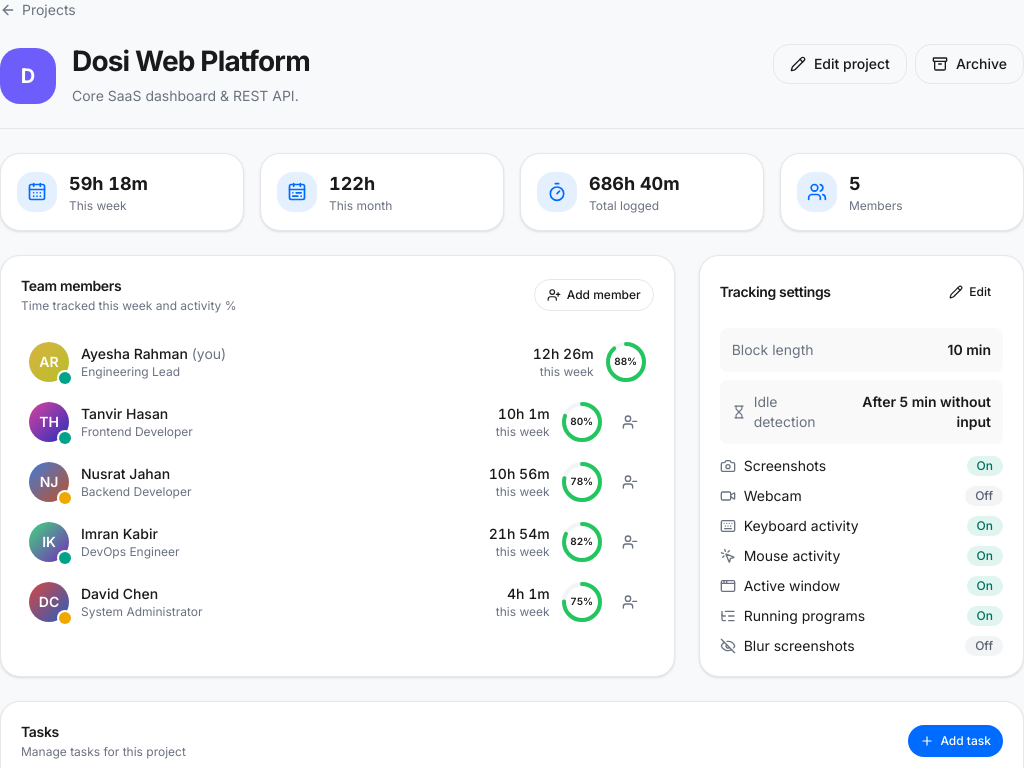
Test case: project page — demo mode › edits the project's tracking settings and shows them at once
The width and height of the screenshot is (1024, 768).
Click the button "Edit project": (840, 64) [773,44,907,84]
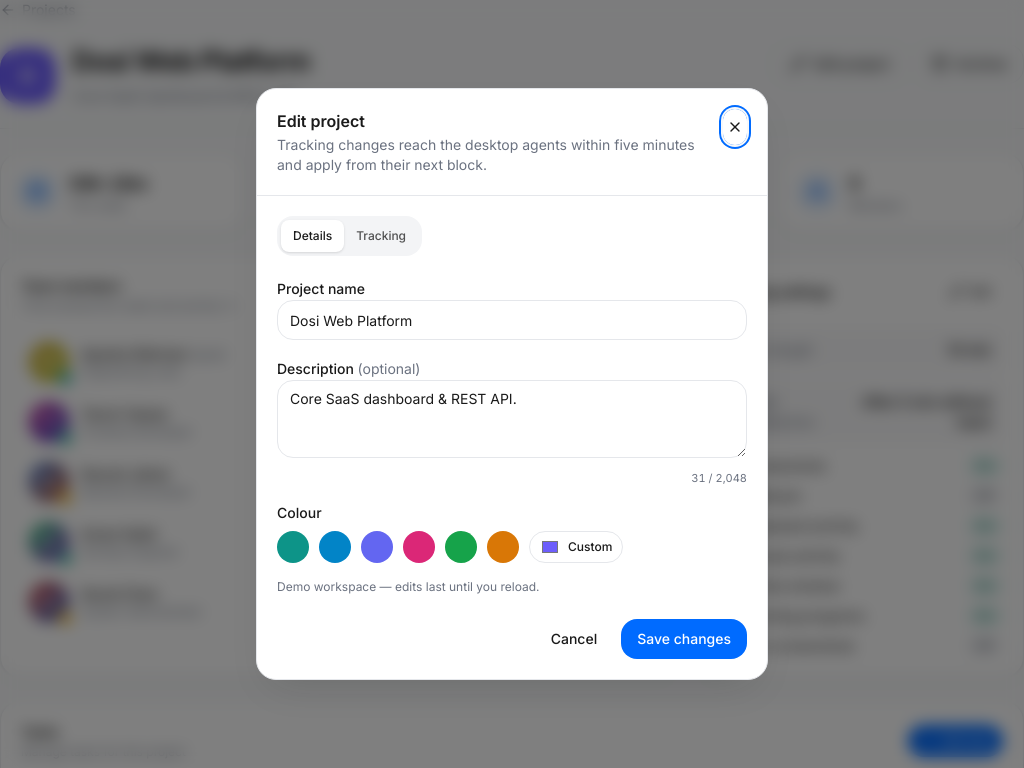
Now the field labelled "Project name" holds "Dosi Web Platform", box [277,300,747,340]
Click the tab "Tracking": (381, 236) [344,220,418,252]
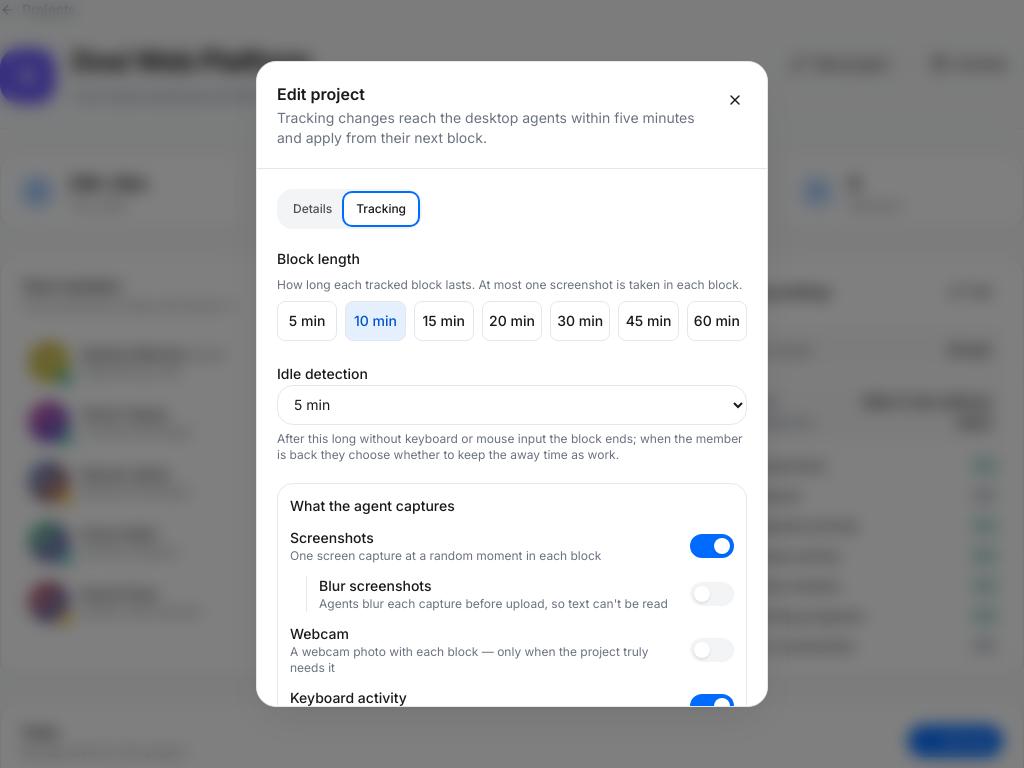
Click the radio button labelled "30 min": (580, 321) [550,301,610,341]
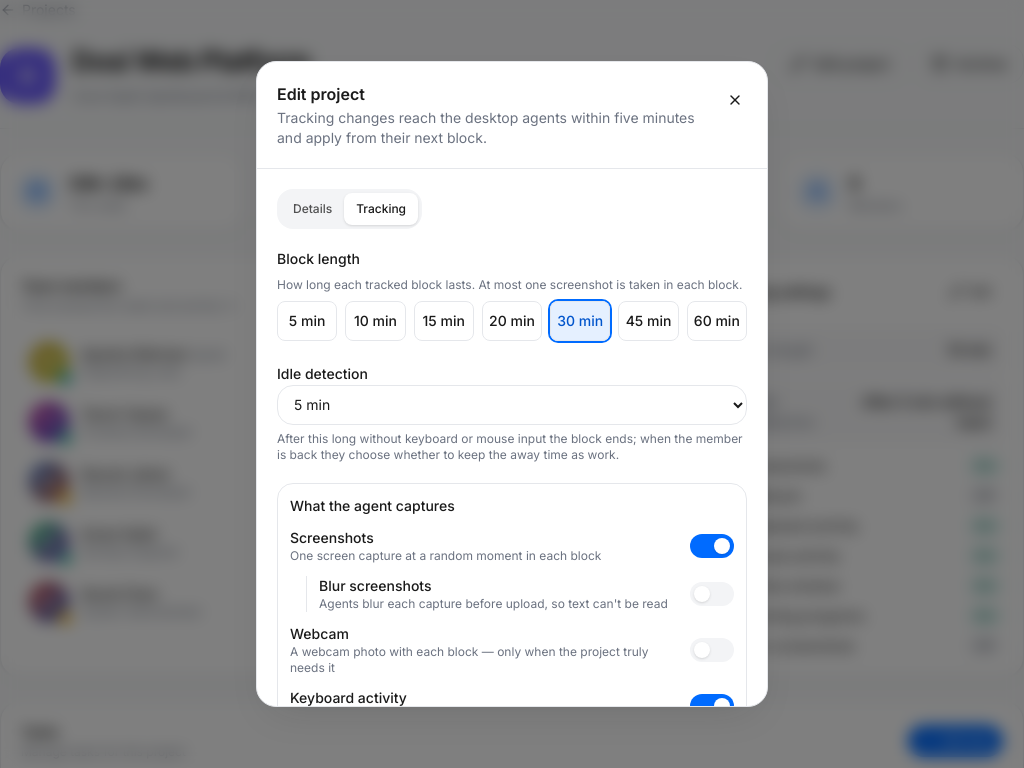
Click the 2nd switch named "blur screenshots": (712, 594) [690,582,734,606]
(page scrolled)
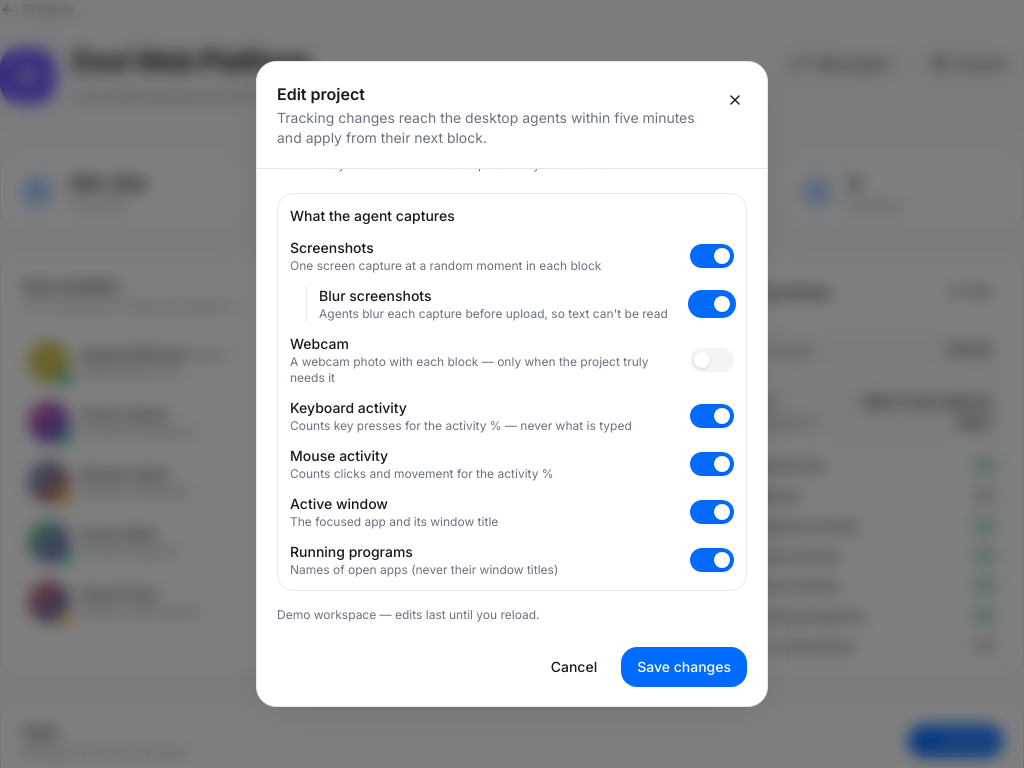
Click the button "Save changes": (684, 667) [621,647,747,687]
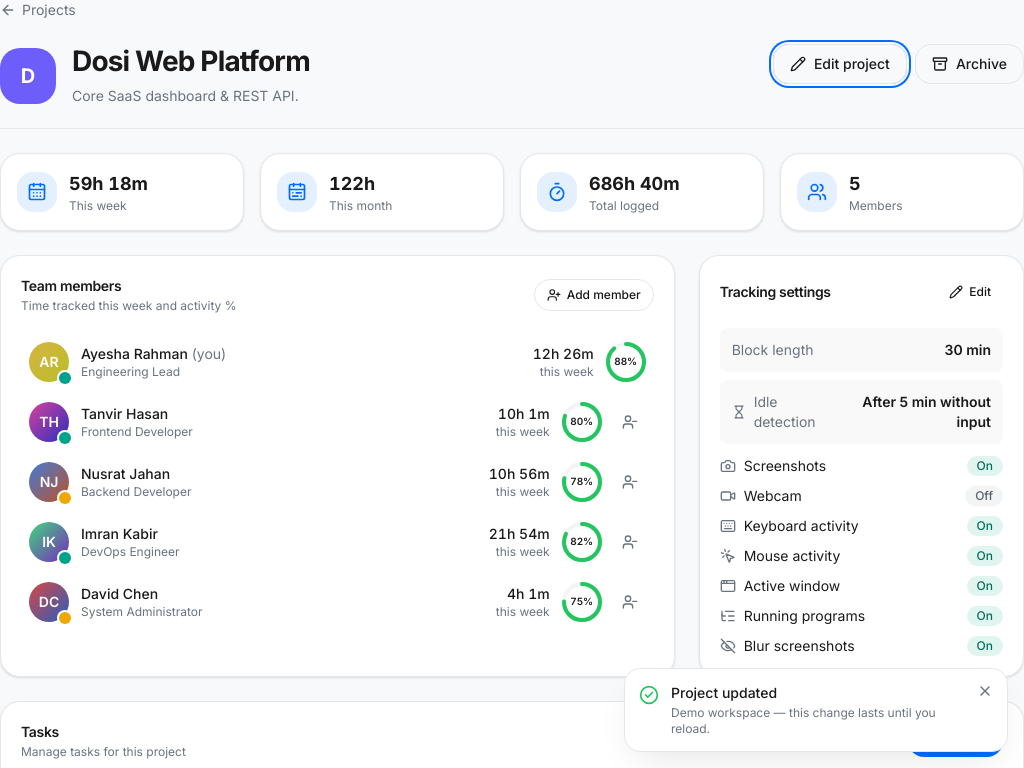
Now the dialog is gone
Now the text "30 min" is shown, box [944,340,991,360]
Now the text "Demo workspace — this change lasts until you reload." is shown, box [671,705,965,737]
